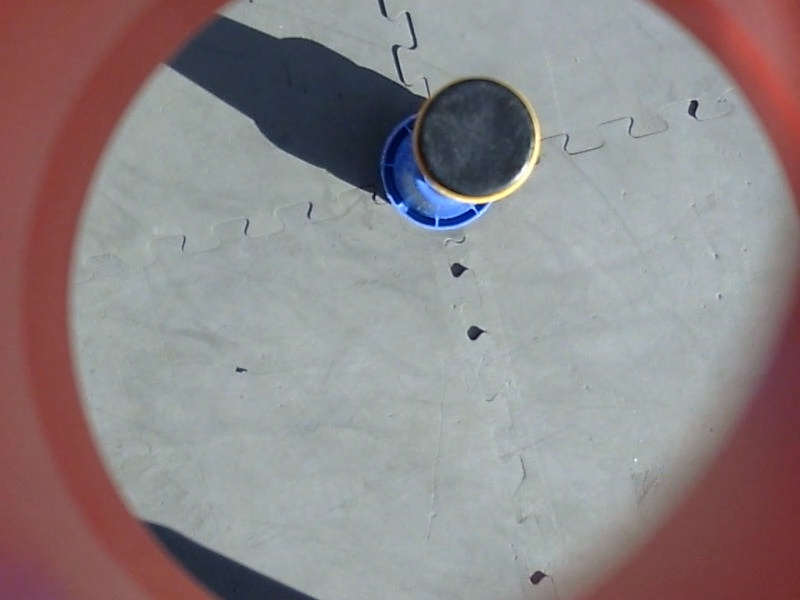tip: (407, 73, 545, 210)
